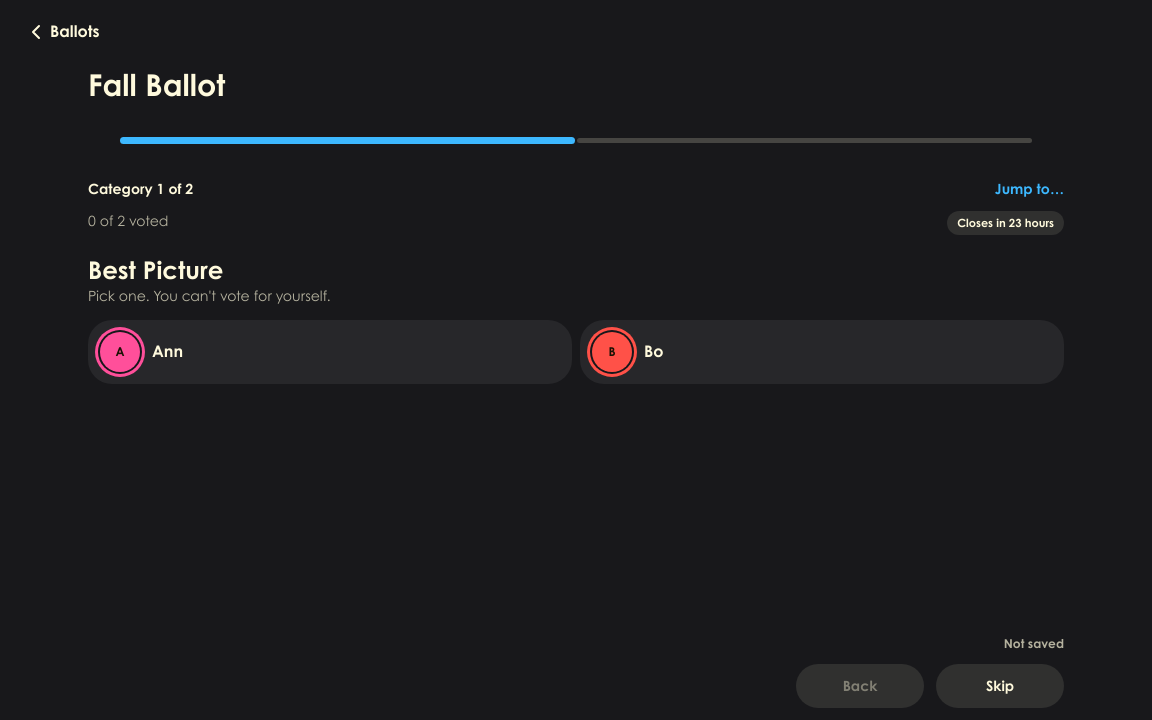
Scenario: VotePage behavior › optimistic vote then save
The image size is (1152, 720).
Check: the element "Best Picture" is shown, box [88,255,1064,384]
Click the radio button labelled "A Ann".
click(120, 352)  # box [88,320,572,384]
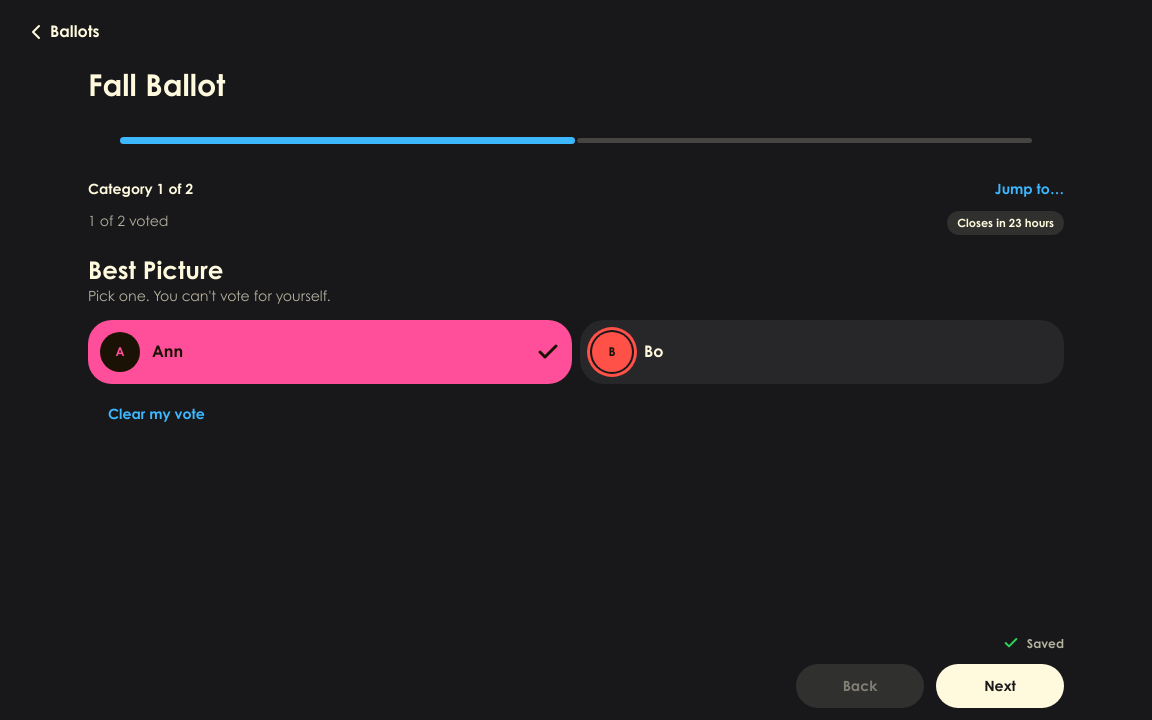
Check: the text "Saved" is shown, box [1027,635,1064,652]
Check: the text "1 of 2 voted" is shown, box [88,213,168,233]
